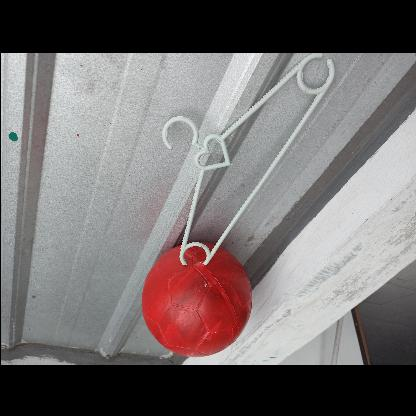red_ball: (138, 244, 252, 360)
